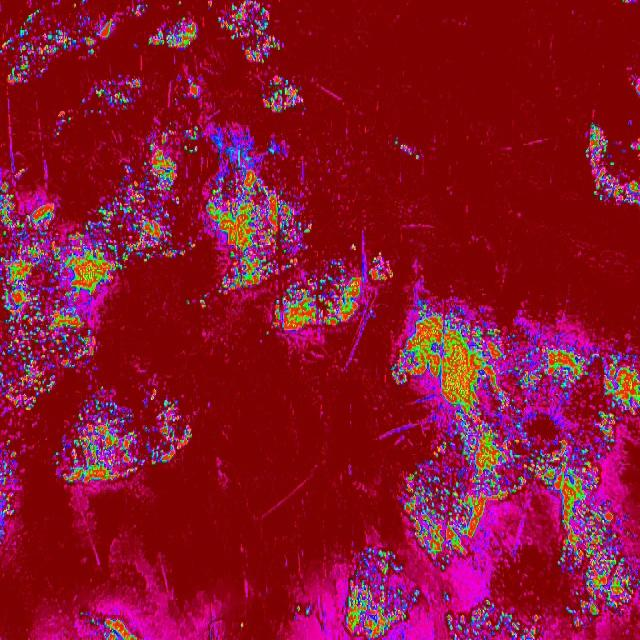fire: (388, 297, 640, 640), (200, 126, 390, 350), (0, 172, 59, 410), (110, 120, 200, 275), (62, 387, 144, 488), (60, 206, 109, 373), (2, 7, 77, 83), (586, 116, 640, 207), (218, 0, 282, 66), (346, 544, 388, 638), (143, 388, 192, 467), (80, 73, 144, 115), (0, 438, 24, 547), (144, 17, 202, 53), (78, 8, 119, 58), (262, 72, 305, 116), (87, 615, 137, 640), (173, 74, 204, 104), (394, 133, 422, 163), (54, 107, 75, 138), (125, 0, 149, 18), (290, 602, 313, 620), (629, 67, 640, 94), (54, 447, 62, 472), (183, 296, 192, 306), (618, 0, 634, 5), (238, 620, 246, 630), (78, 612, 85, 618), (82, 0, 85, 4)
